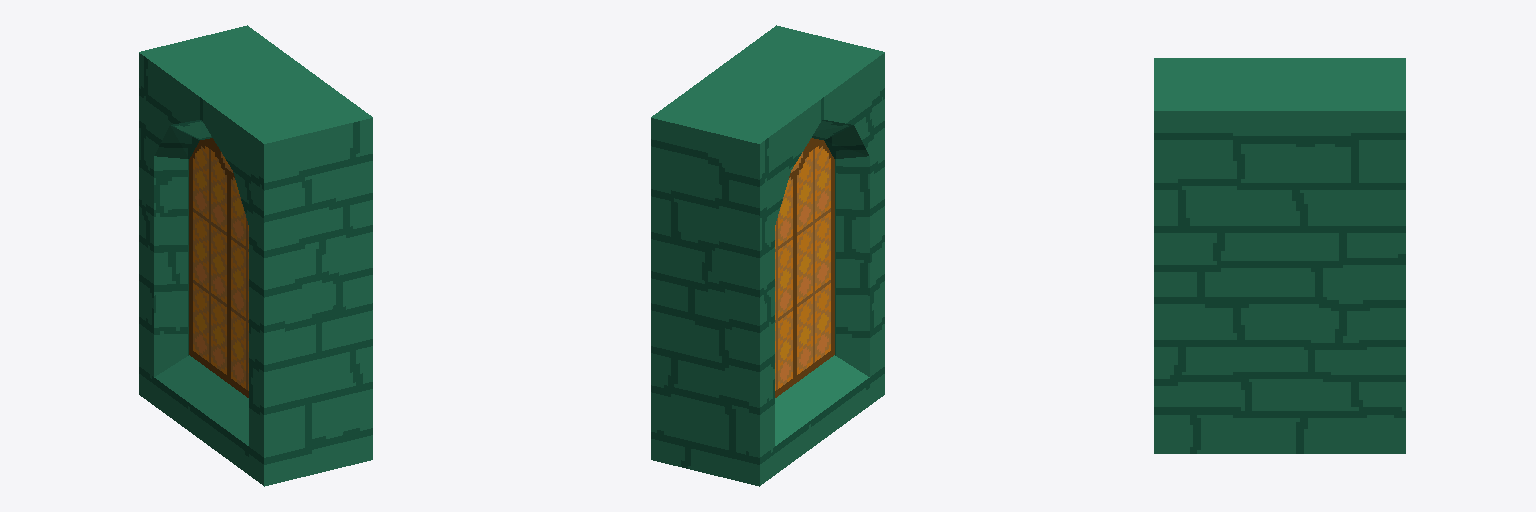
3 views of the same model, side by side, from view 1: azimuth 30°, elevation 25°; view 2: azimuth 150°, elevation 25°; view 3: azimuth 270°, elevation 25° (orthographic).
Visible parts, largest first — view 1: cube; view 2: cube; view 3: cube.
Part boxes in pixels (x1,y1,x2,y2): cube: (139, 25, 372, 486); cube: (651, 25, 884, 486); cube: (1154, 58, 1405, 453).
Size of the model in its own units: 1 by 3 by 2.
Materials: 1 (1 with a texture image).